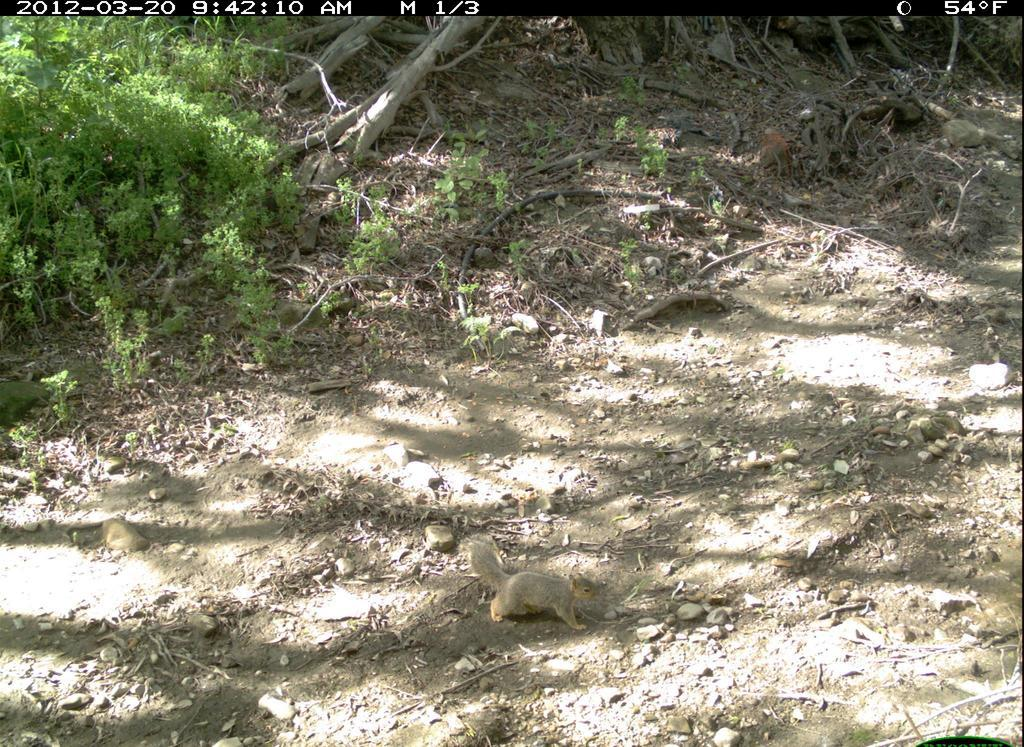squirrel: (457, 525, 628, 634)
